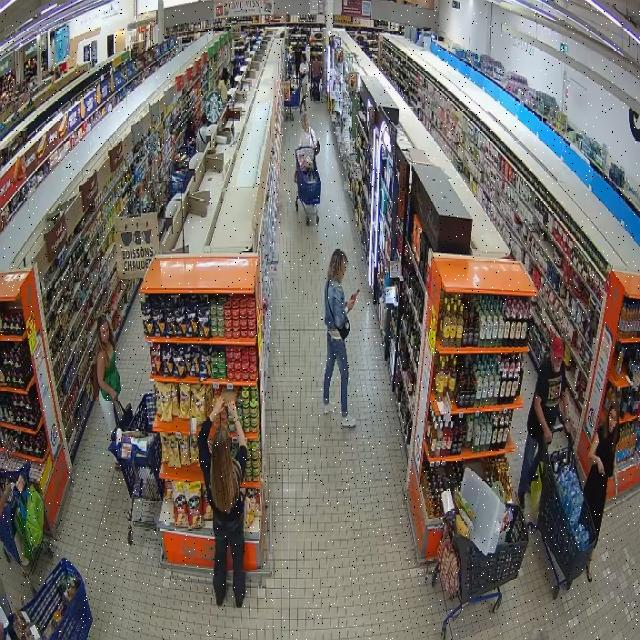article: (349, 289, 360, 301)
bags: (326, 281, 349, 340), (114, 398, 133, 431), (315, 139, 319, 156)
hands: (210, 396, 225, 422), (228, 401, 238, 421), (564, 416, 574, 434), (544, 428, 552, 444), (597, 458, 604, 475), (613, 467, 618, 490), (347, 297, 355, 311), (110, 389, 118, 402)
person: (198, 397, 247, 607), (518, 337, 569, 505), (323, 249, 356, 427), (584, 404, 619, 542), (97, 315, 120, 432), (299, 113, 317, 171)
